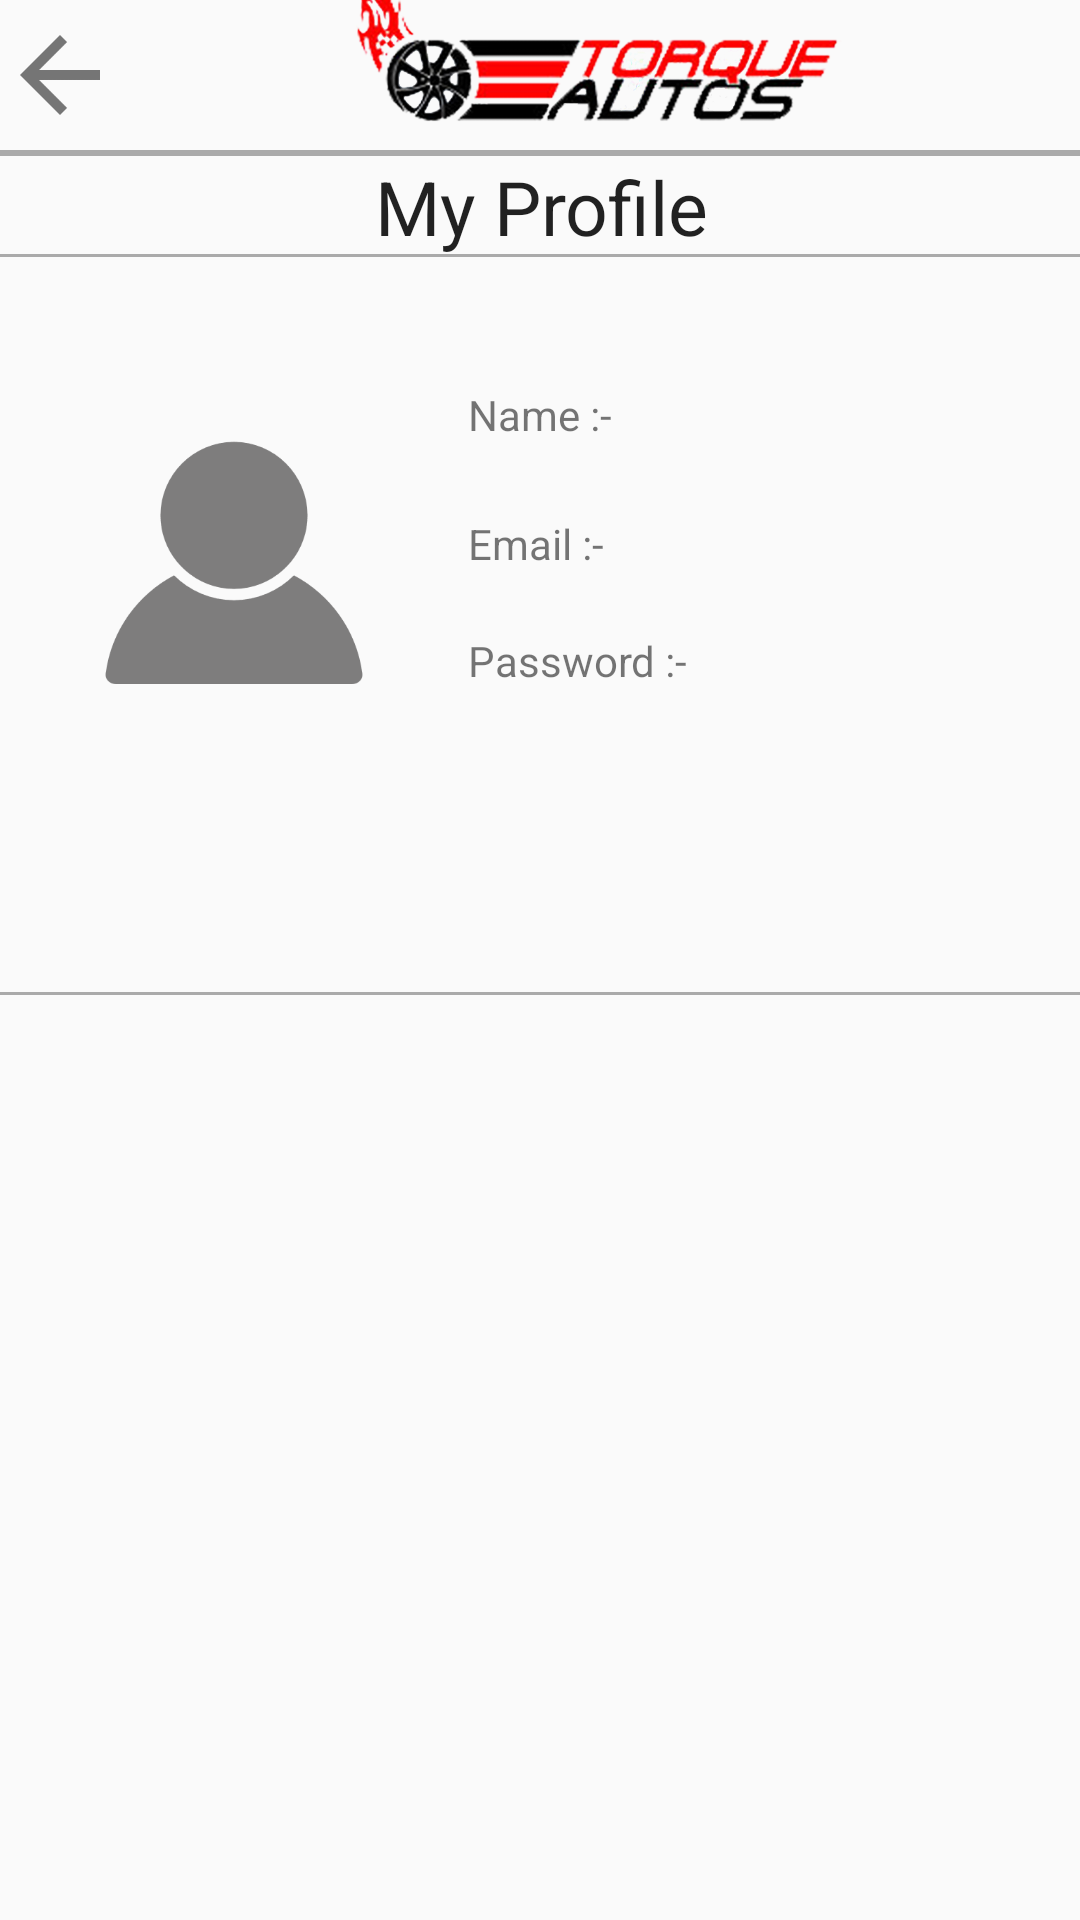

Where to tap for icons on this 1080x1920 app screen, as (x,y):
arrow: (60,75)
profilepic: (234,562)
